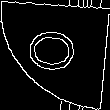O_E: (26, 31, 84, 79)
